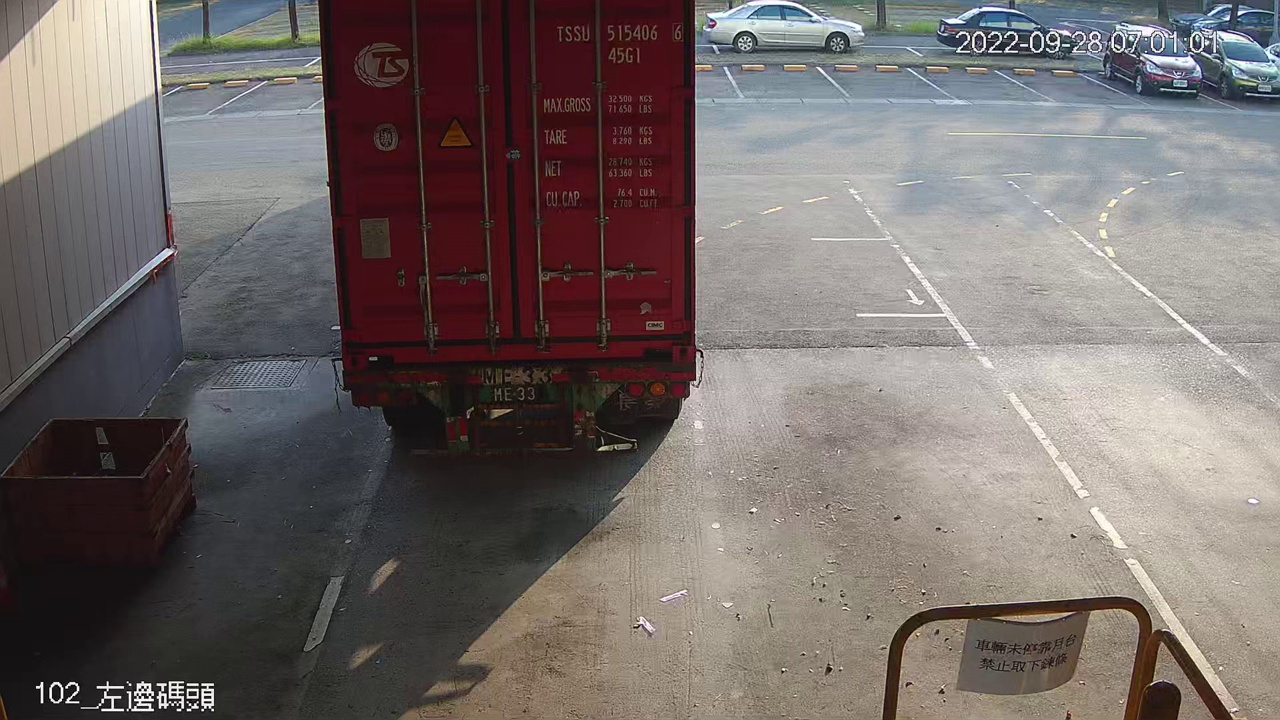container: (550, 18, 689, 68)
